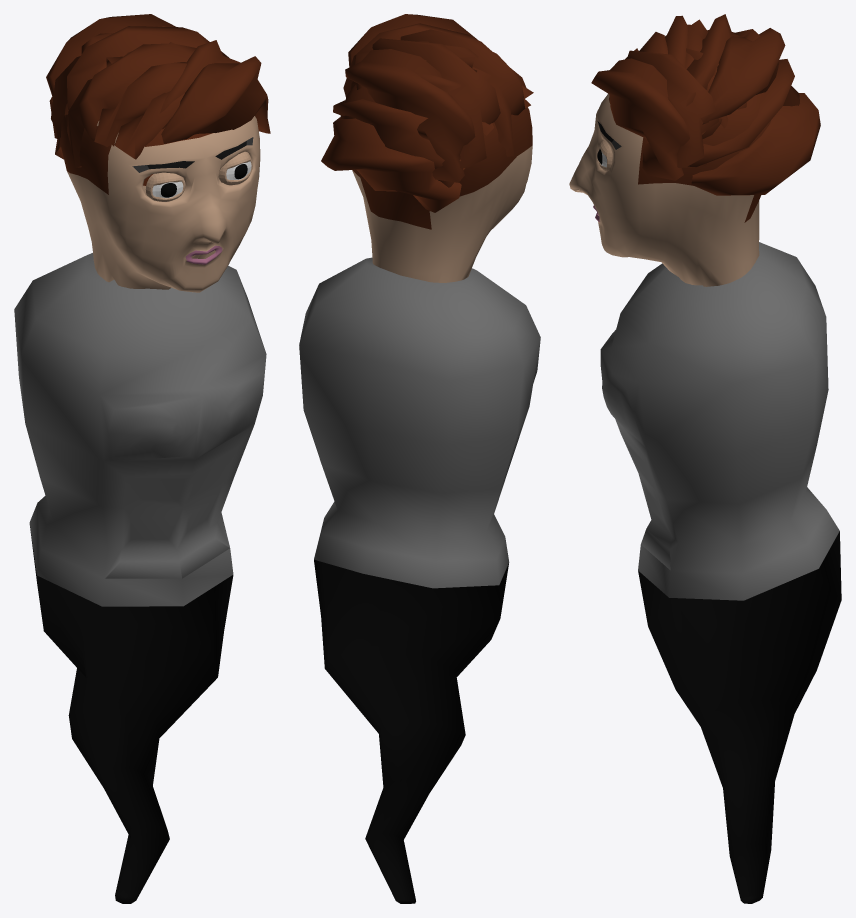
File: ManuelBelgrano.fbx
The picture shows the model from 3 angles, left to right: view 1: azimuth 30°, elevation 25°; view 2: azimuth 150°, elevation 25°; view 3: azimuth 270°, elevation 25°; orthographic projection. The views are drawn at different scales.
Parts seen in each view (by area): view 1: Círculo, Cubo, Curva NURBS.004, Curva NURBS.001, Cubo.002, Cubo.001; view 2: Círculo, Curva NURBS.004, Cubo, Curva NURBS.002, Curva NURBS.001; view 3: Círculo, Cubo, Curva NURBS.001, Curva NURBS.002, Curva NURBS.004.
Boxes of the visible parts, <box> form: Círculo: <box>14,253,266,903</box>; Cubo: <box>60,114,260,292</box>; Curva NURBS.004: <box>46,14,228,167</box>; Curva NURBS.001: <box>160,40,270,143</box>; Cubo.002: <box>145,172,185,201</box>; Cubo.001: <box>219,151,252,185</box>; Círculo: <box>299,257,540,903</box>; Curva NURBS.004: <box>345,29,533,182</box>; Cubo: <box>340,84,532,282</box>; Curva NURBS.002: <box>321,45,493,212</box>; Curva NURBS.001: <box>343,14,478,97</box>; Círculo: <box>600,242,841,903</box>; Cubo: <box>569,91,771,286</box>; Curva NURBS.001: <box>591,48,746,180</box>; Curva NURBS.002: <box>685,19,820,195</box>; Curva NURBS.004: <box>625,14,785,124</box>.
Size of the model in its own units: 204 by 762 by 215.
